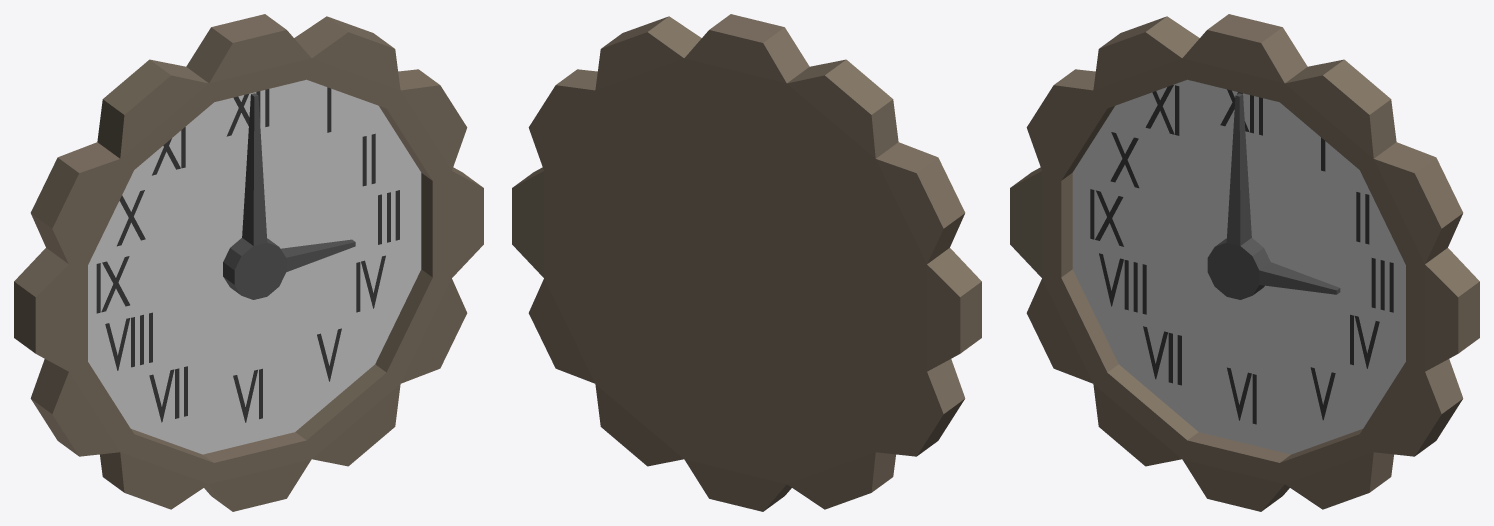
File: steampunk_clock.fbx
The picture shows the model from 3 angles, left to right: view 1: azimuth 30°, elevation 25°; view 2: azimuth 150°, elevation 25°; view 3: azimuth 330°, elevation 25°; orthographic projection.
Visible parts, largest first — view 1: Cylinder.004, Text.009, Cylinder.005; view 2: Cylinder.004; view 3: Cylinder.004, Text.009, Cylinder.005.
Part boxes in pixels (<box>): Cylinder.004: <box>14,14,483,511</box>; Text.009: <box>96,87,399,422</box>; Cylinder.005: <box>223,93,355,299</box>; Cylinder.004: <box>512,14,981,511</box>; Cylinder.004: <box>1010,14,1479,511</box>; Text.009: <box>1090,85,1393,424</box>; Cylinder.005: <box>1207,93,1340,299</box>.
Size of the model in its own units: 2.26 by 2.26 by 0.2.
